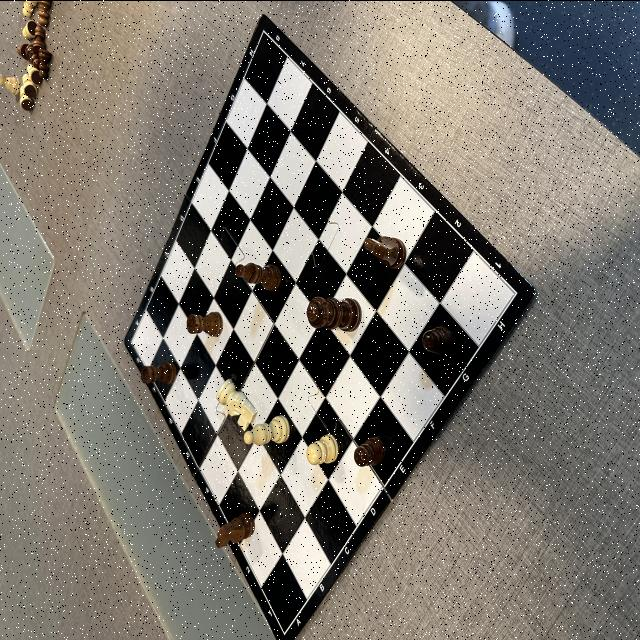Black-Bishop: (236, 262, 282, 290)
Black-Knight: (215, 510, 255, 548), (364, 235, 406, 269)
Black-Pawn: (354, 434, 386, 466), (422, 325, 453, 355), (38, 47, 52, 79), (38, 0, 52, 26), (33, 24, 45, 50), (30, 53, 38, 67)
Black-Queen: (306, 296, 362, 332)
Black-Rook: (187, 310, 223, 336), (141, 359, 177, 384)
White-Bishop: (243, 414, 290, 445)
White-Knight: (215, 376, 258, 431)
White-Pawn: (306, 432, 338, 464)
